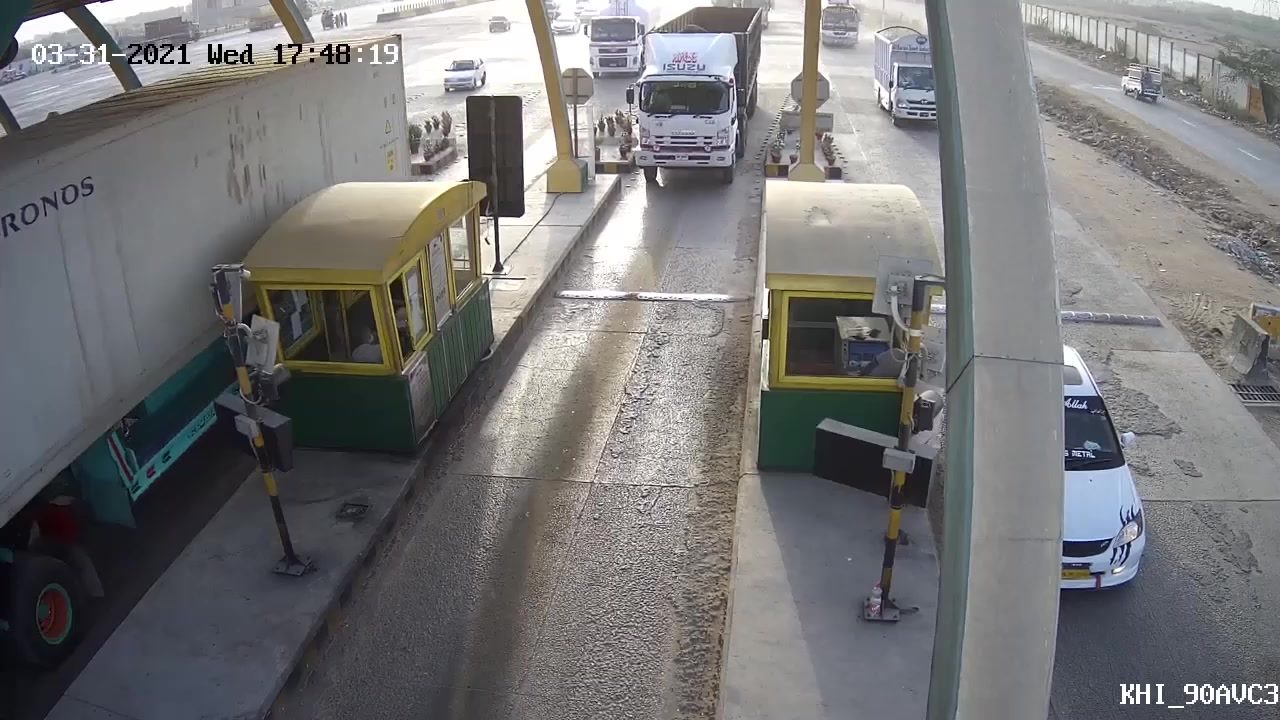F5: (629, 3, 770, 187)
